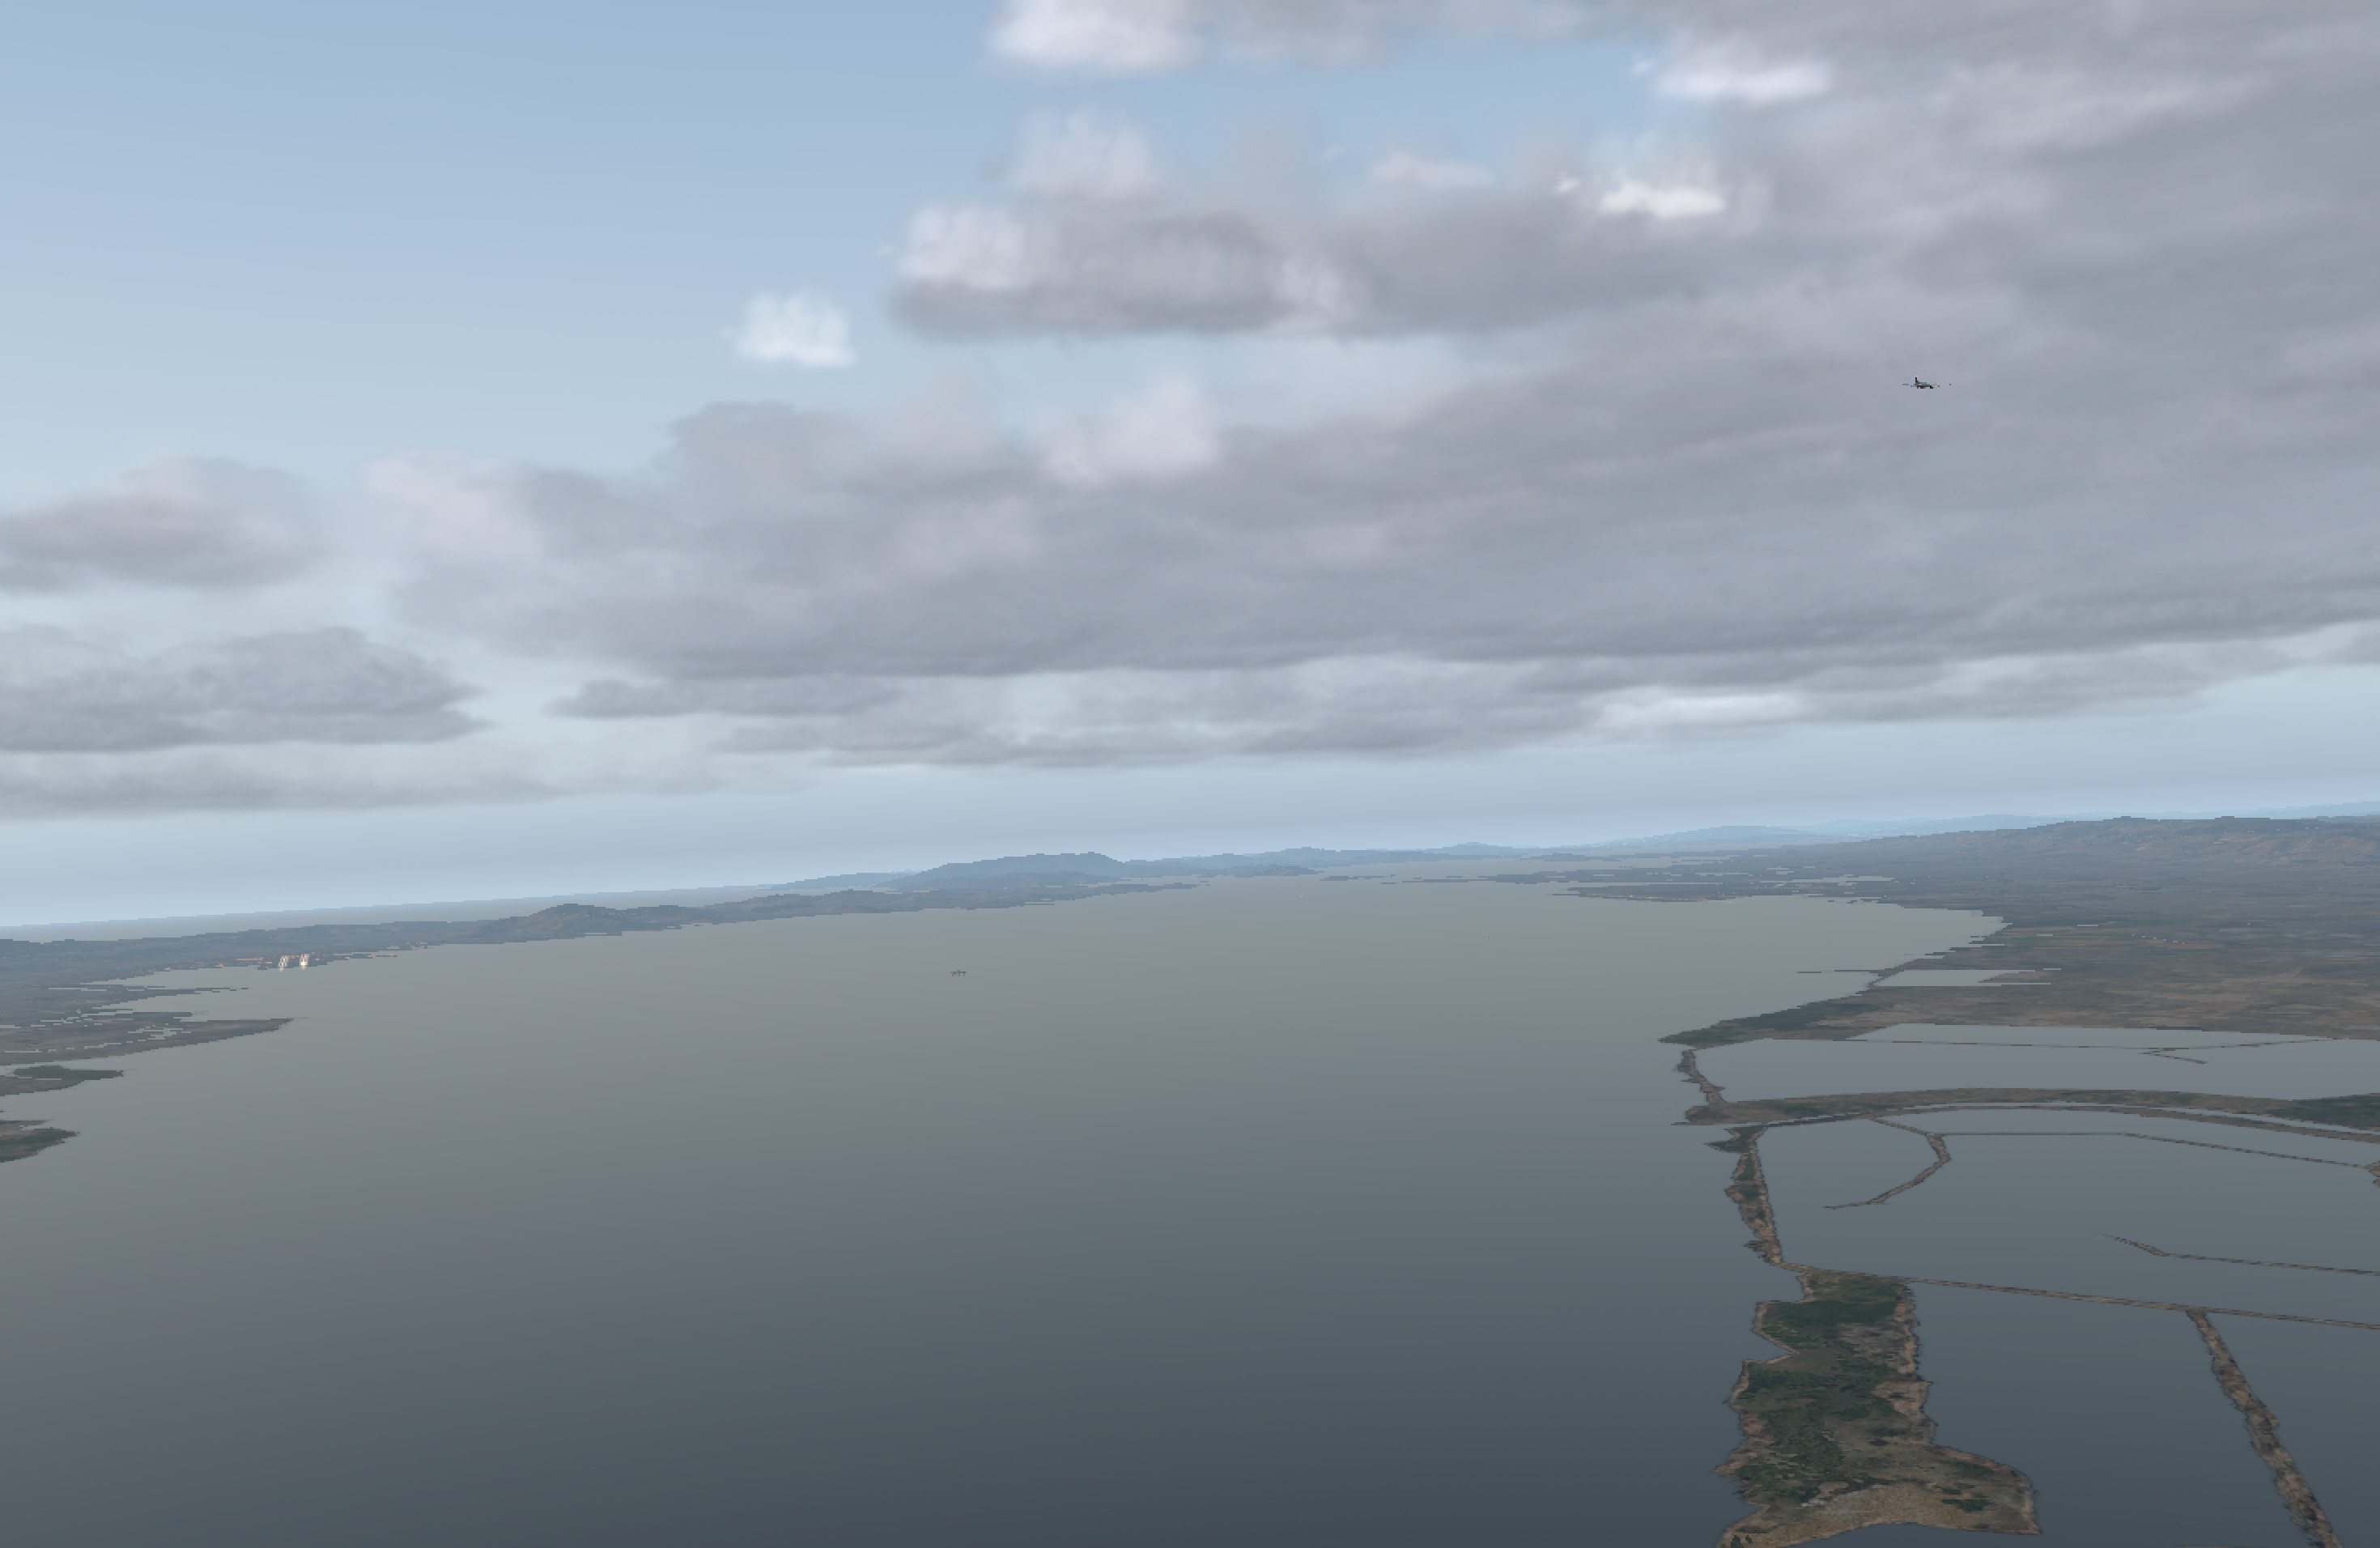aircraft: (1899, 378, 1950, 397)
